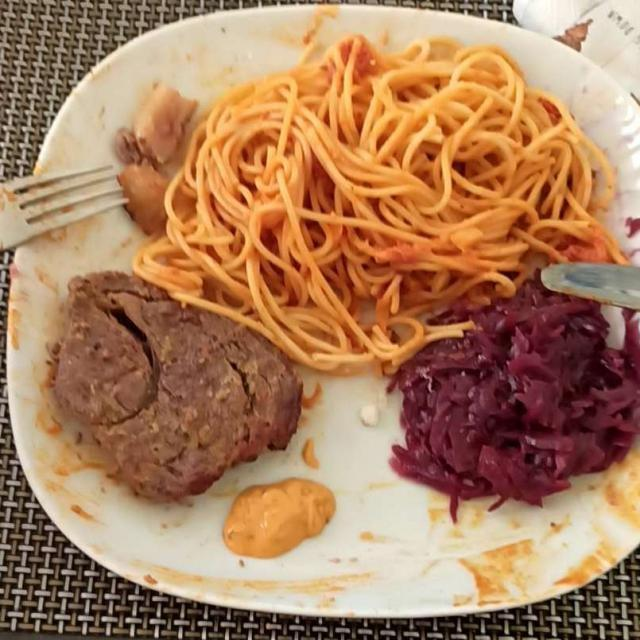beef: (55, 269, 316, 501)
cabbage: (374, 256, 636, 502)
pasta: (122, 43, 620, 389)
sauce: (221, 476, 333, 557)
